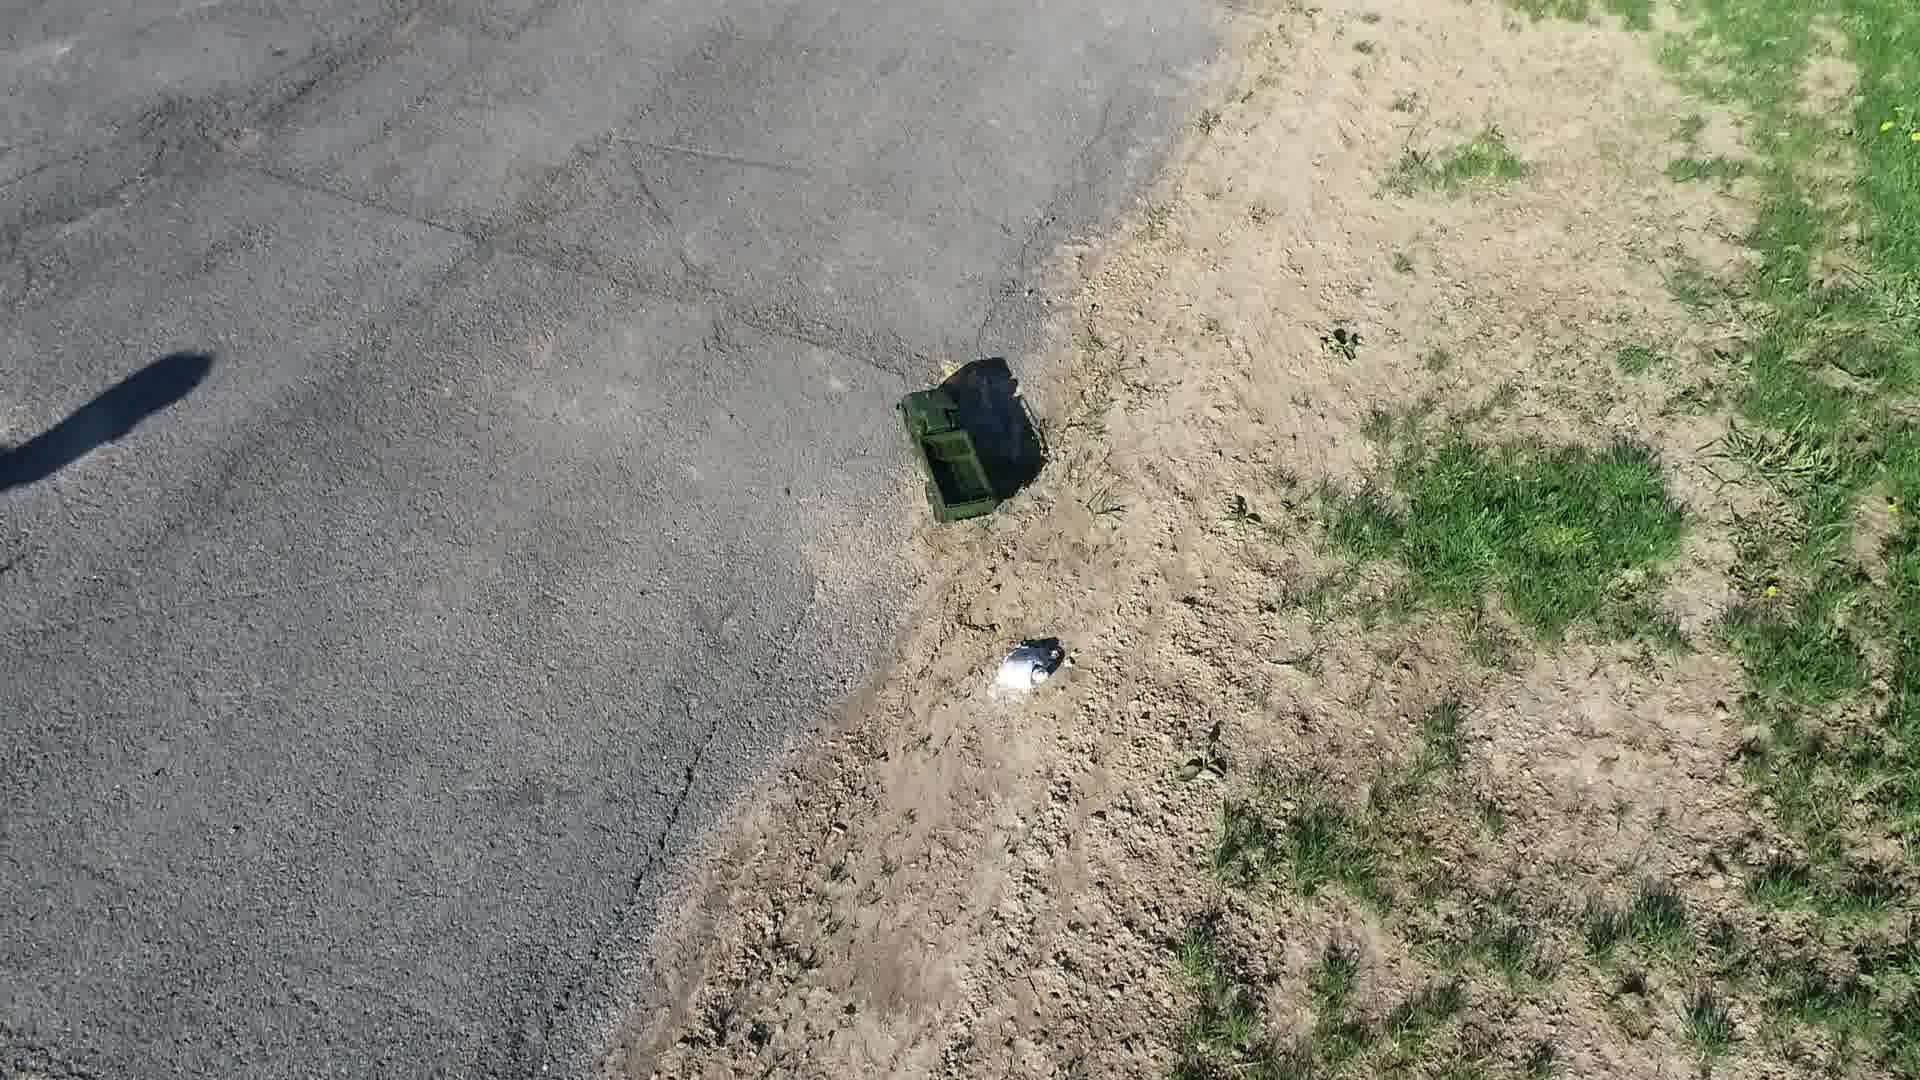transporter9: (891, 384, 1018, 531)
